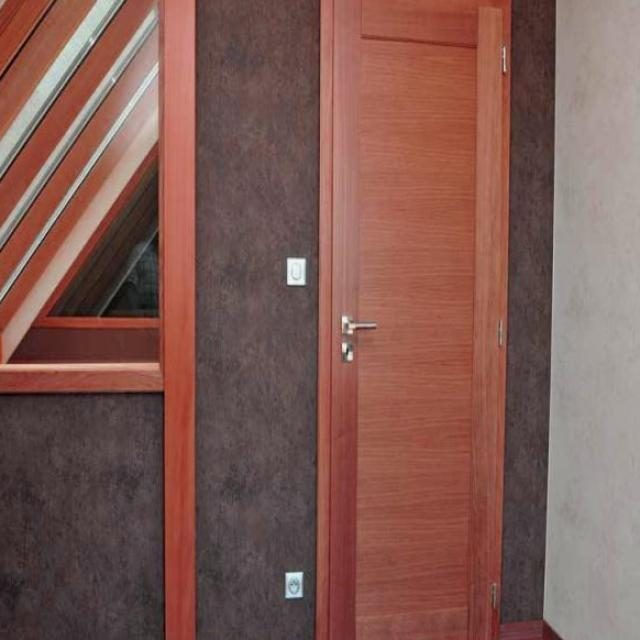door: (316, 0, 512, 639)
